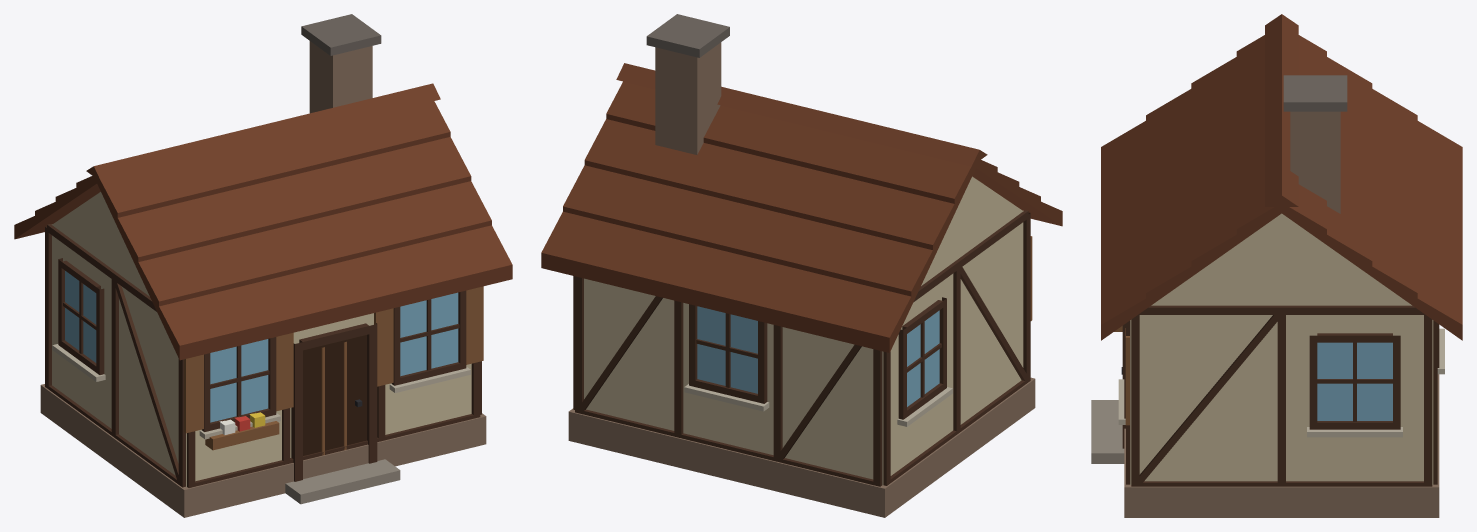
File: house_01_cottage.fbx
3 renders of one model, left to right at view 1: azimuth 30°, elevation 25°; view 2: azimuth 150°, elevation 25°; view 3: azimuth 270°, elevation 25°, orthographic. The views are drawn at different scales.
Parts seen in each view (by area): view 1: house_01_cottage; view 2: house_01_cottage; view 3: house_01_cottage.
Part boxes in pixels (left/top/right/bottom): house_01_cottage: left=14, top=14, right=512, bottom=517; house_01_cottage: left=541, top=14, right=1062, bottom=517; house_01_cottage: left=1091, top=14, right=1462, bottom=517.
Bounding box in the file's own units: 5.1 × 5.22 × 4.42.
